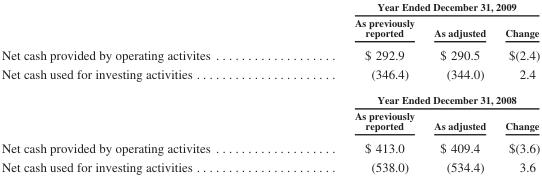table: (0, 0, 539, 173)
table column: (0, 0, 281, 173), (281, 0, 423, 173), (423, 0, 494, 173), (494, 0, 539, 173)
table column header: (0, 0, 539, 43)
table row: (0, 14, 539, 43), (0, 107, 539, 136), (0, 64, 539, 87), (0, 43, 539, 64), (0, 136, 539, 157), (0, 87, 539, 107), (0, 157, 539, 173), (0, 0, 539, 14)
table spanning cell: (0, 64, 281, 136), (281, 87, 539, 107), (281, 0, 539, 14)
